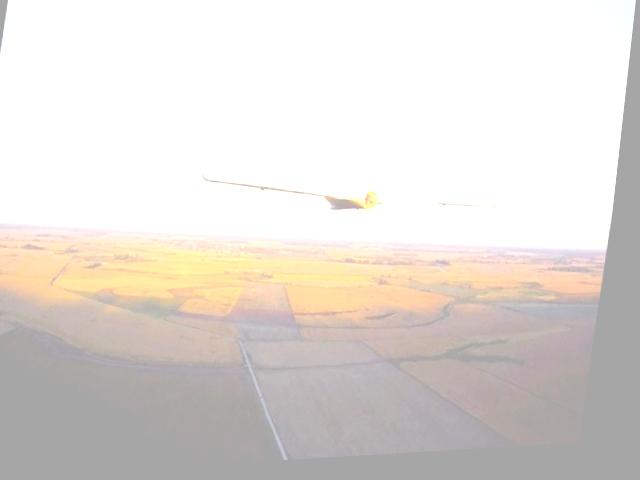plane: (196, 116, 538, 231)
